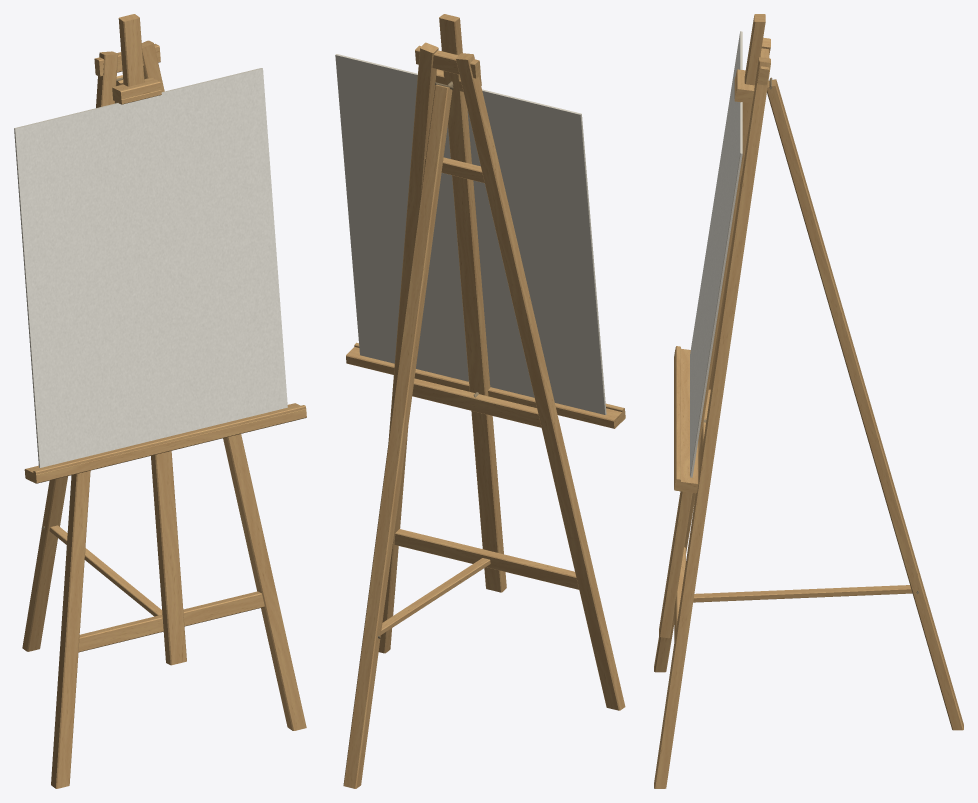
Rendered from stand.glb.
3 views of the same model, side by side, from view 1: azimuth 30°, elevation 25°; view 2: azimuth 150°, elevation 25°; view 3: azimuth 270°, elevation 25° (orthographic).
Visible parts, largest first — view 1: poster_front, stand_oak_frame, poster_backing; view 2: poster_backing, stand_oak_frame; view 3: stand_oak_frame, poster_front, poster_backing.
Boxes of the visible parts, x1,y1,x2,y2 form: poster_front: (15,68,287,467); stand_oak_frame: (22,14,306,788); poster_backing: (14,68,262,467); poster_backing: (335,54,606,414); stand_oak_frame: (343,14,625,788); stand_oak_frame: (654,14,963,788); poster_front: (690,31,740,475); poster_backing: (690,31,742,477).
Size of the model in its own units: 0.785 by 1.95 by 0.7719.
4 materials, 2 textured.
